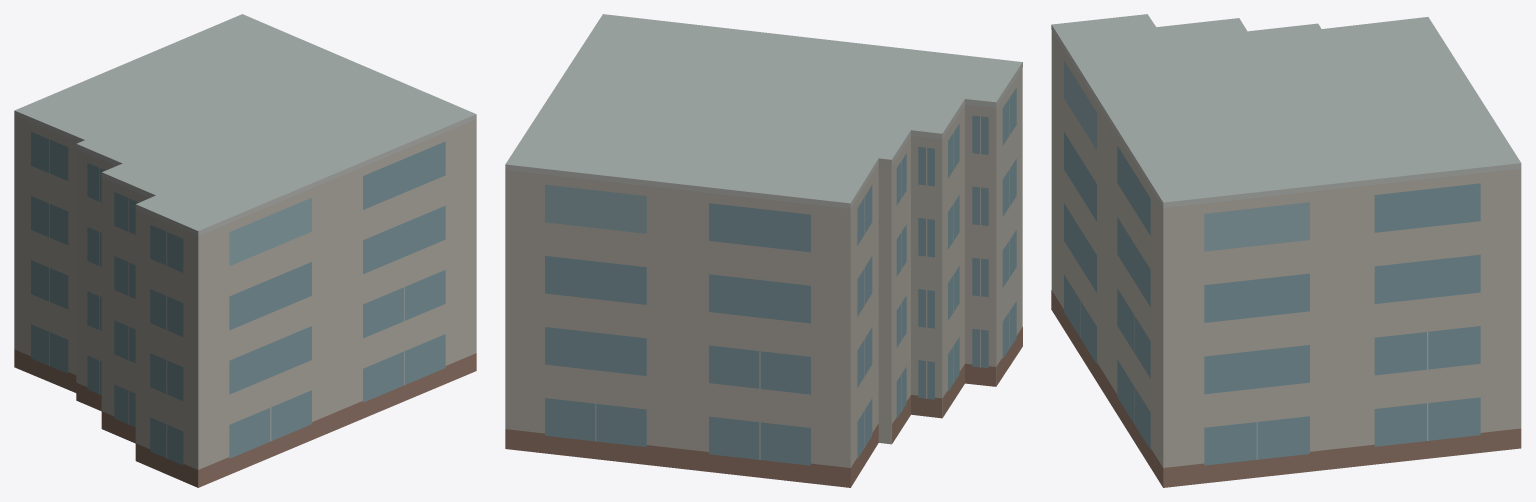
File: survey-upis-32834280.glb
The picture shows the model from 3 angles, left to right: view 1: azimuth 30°, elevation 25°; view 2: azimuth 150°, elevation 25°; view 3: azimuth 270°, elevation 25°; orthographic projection. The views are drawn at different scales.
Visible parts, largest first — view 1: survey-upis-32834280.tmp; view 2: survey-upis-32834280.tmp; view 3: survey-upis-32834280.tmp.
Part boxes in pixels (x1=…): survey-upis-32834280.tmp: x1=14, y1=14, x2=476, y2=487; survey-upis-32834280.tmp: x1=505, y1=14, x2=1022, y2=487; survey-upis-32834280.tmp: x1=1051, y1=14, x2=1521, y2=487.
Bounding box in the file's own units: 17.73 × 12.5 × 18.67.
